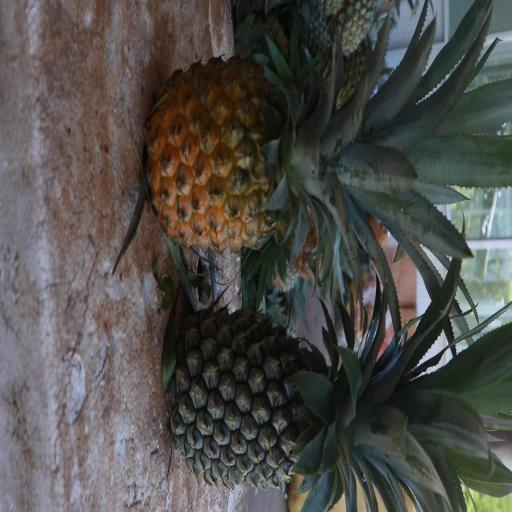Pineapple - v8 v1: (151, 72, 470, 254)
